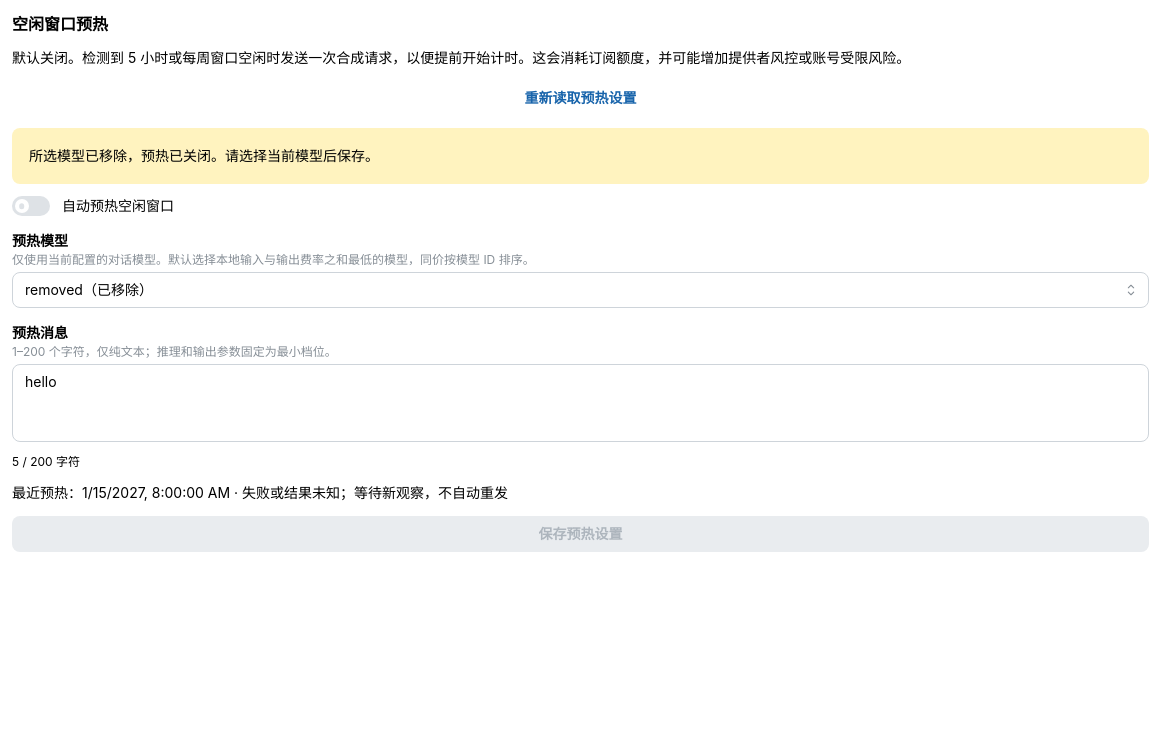
Scenario: requires a replacement for a removed model and shows last result
Check: the text "所选模型已移除，预热已关闭。请选择当前模型后保存。" is shown, box [29,147,379,164]
Check: the text "最近预热：1/15/2027, 8:00:00 AM · 失败或结果未知；等待新观察，不自动重发" is shown, box [12,484,508,501]
Click the switch labelled "自动预热空闲窗口".
click(93, 206)  # box [12,196,174,216]
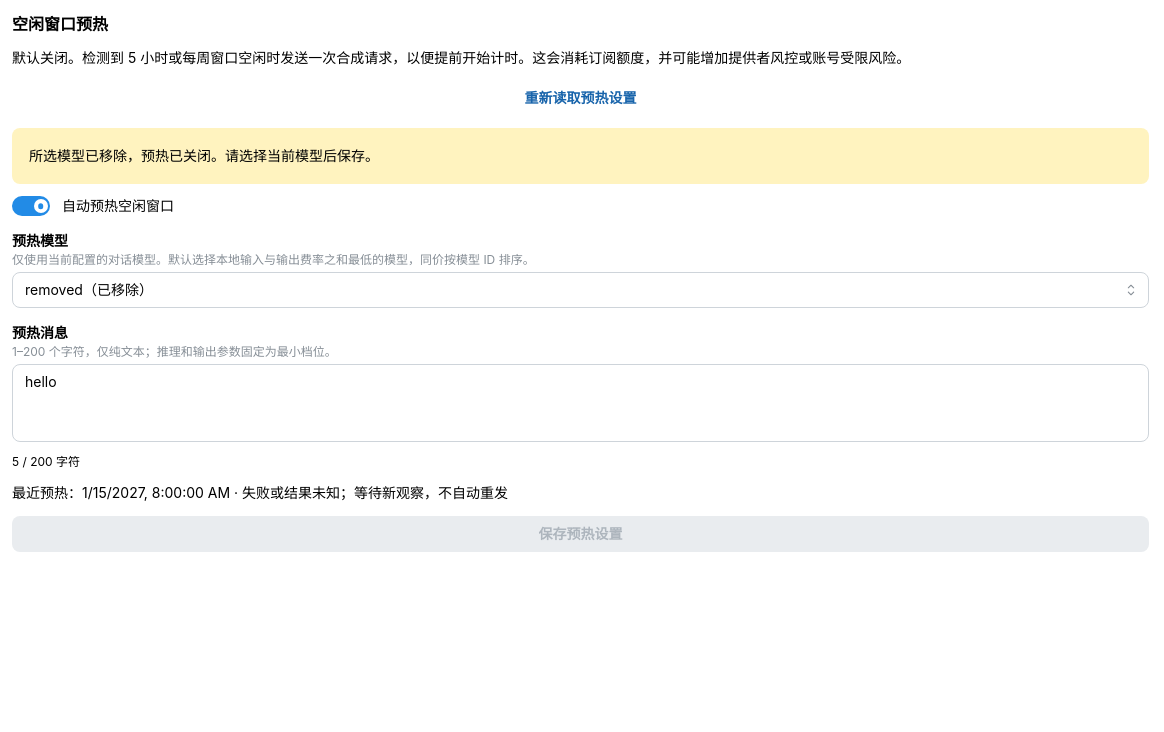
Check: the button "保存预热设置" is disabled, box [12,516,1149,552]
Select "synthetic-cheap" in the dropdown labelled "预热模型" at point(580, 290), box [12,272,1149,308]
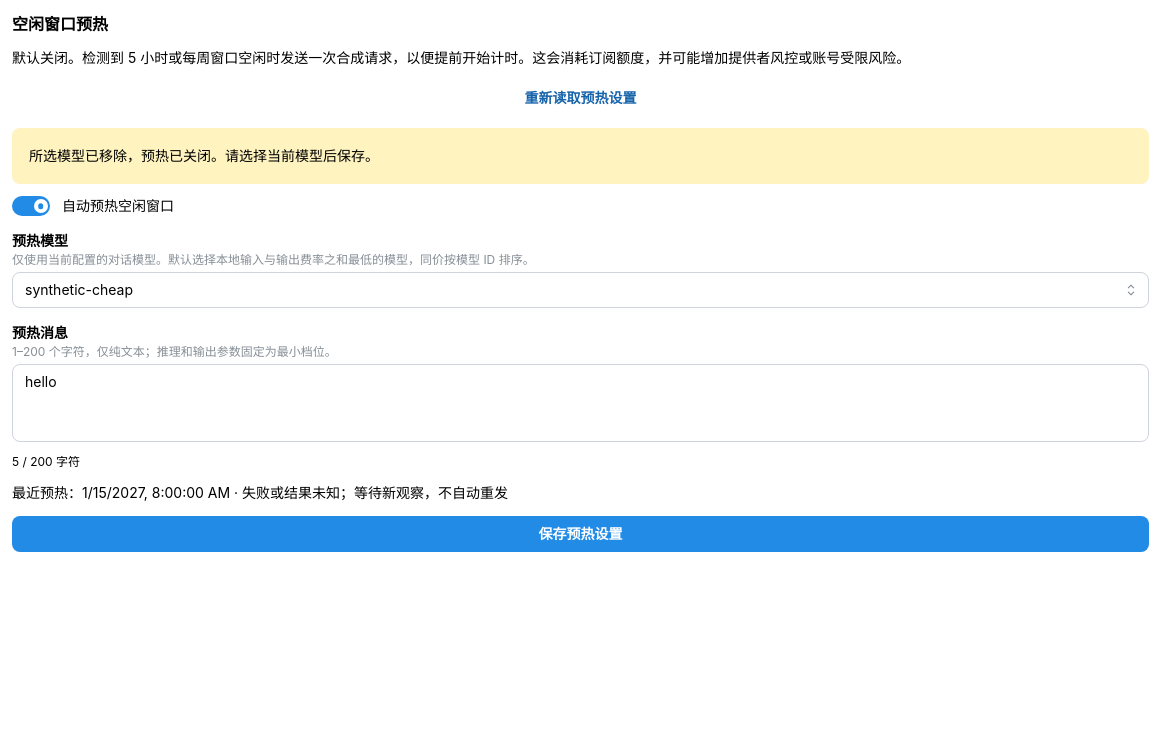
Check: the button "保存预热设置" is enabled, box [12,516,1149,552]
